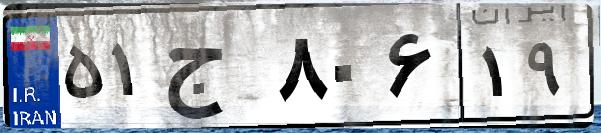0: (330, 28, 385, 110)
1: (475, 38, 525, 113), (110, 28, 158, 98)
5: (57, 26, 110, 100)
6: (385, 28, 445, 110)
8: (270, 28, 330, 110)
9: (525, 38, 570, 115)
ج: (158, 20, 270, 120)
